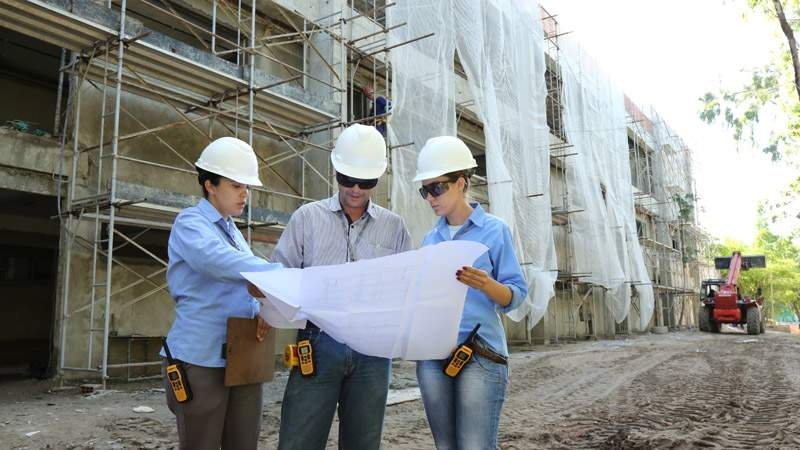white: (191, 136, 262, 219), (416, 132, 477, 217), (329, 123, 386, 209)
